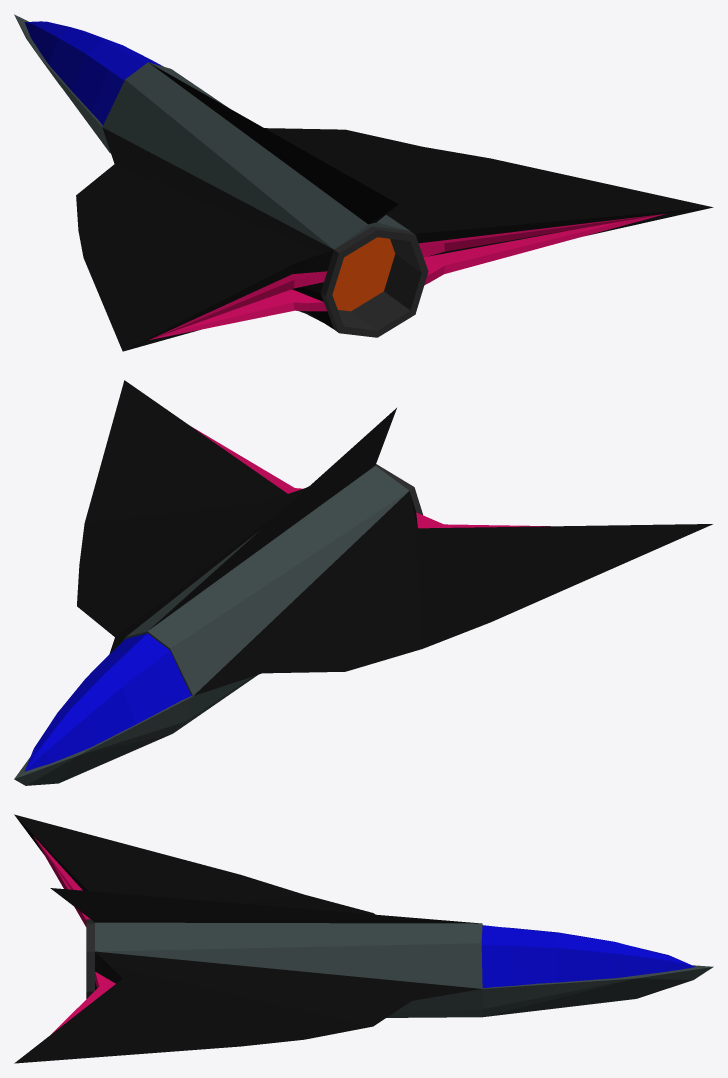
The model's file is ShipV3.obj.
The picture shows the model from 3 angles, top to bottom: view 1: azimuth 30°, elevation 25°; view 2: azimuth 150°, elevation 25°; view 3: azimuth 270°, elevation 25°; orthographic projection. The views are drawn at different scales.
Visible parts, largest first — view 1: SHIP, Thruster, Cockpit; view 2: SHIP, Cockpit; view 3: SHIP, Cockpit, Thruster.
Boxes of the visible parts, bbox=[...] form: SHIP: bbox=[14, 14, 713, 351]; Thruster: bbox=[320, 226, 428, 337]; Cockpit: bbox=[24, 21, 163, 125]; SHIP: bbox=[14, 380, 712, 785]; Cockpit: bbox=[24, 633, 191, 771]; SHIP: bbox=[14, 814, 713, 1063]; Cockpit: bbox=[481, 925, 695, 988]; Thruster: bbox=[86, 919, 94, 998].
Bounding box in the file's own units: 11.49 × 2.77 × 13.65.
